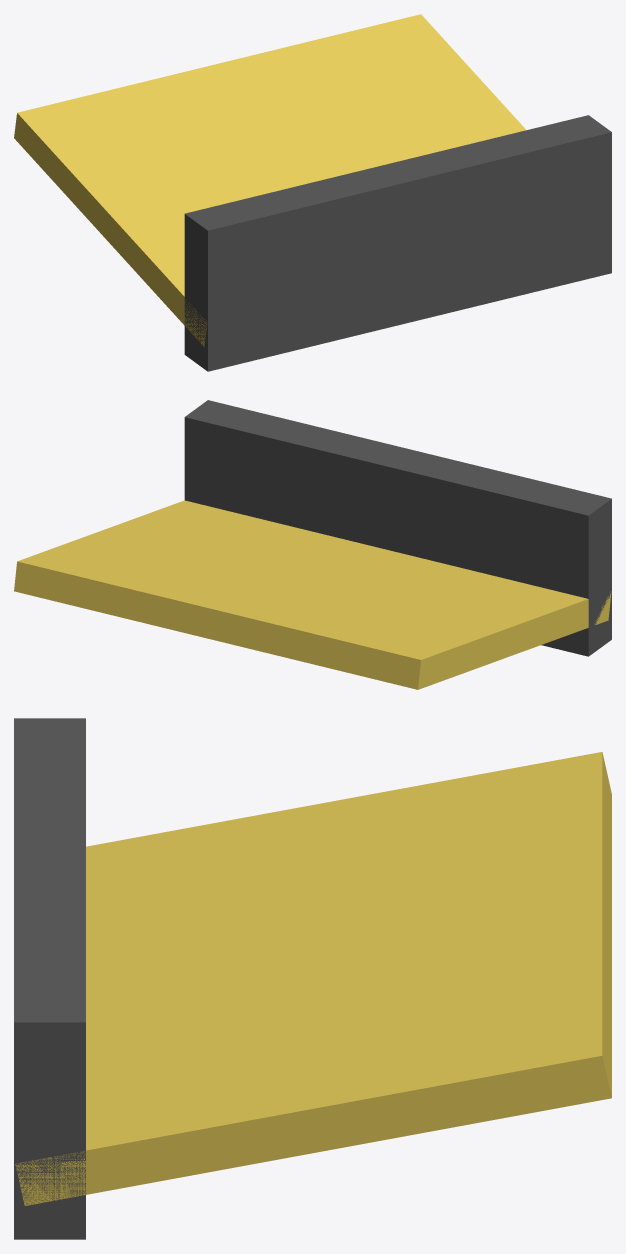
The model's file is evidence_marker.glb.
The picture shows the model from 3 angles, top to bottom: view 1: azimuth 30°, elevation 25°; view 2: azimuth 150°, elevation 25°; view 3: azimuth 270°, elevation 25°; orthographic projection. The views are drawn at different scales.
Visible parts, largest first — view 1: base, marker; view 2: marker, base; view 3: marker, base.
Part boxes in pixels (x1,y1,x2,y2): base: [184, 115, 611, 371]; marker: [14, 14, 526, 346]; marker: [14, 500, 611, 689]; base: [184, 400, 611, 656]; marker: [15, 752, 611, 1205]; base: [14, 718, 85, 1239].
Bounding box in the file's own units: 0.6001 × 0.2002 × 0.499.
